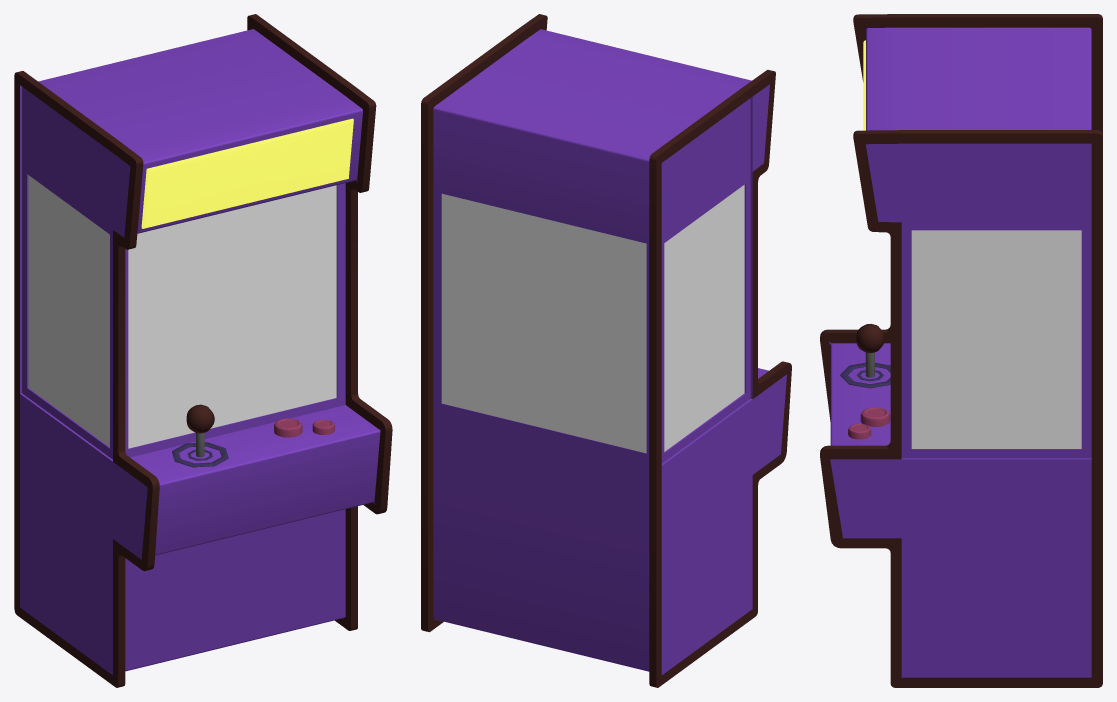
Rendered from gacha_machine.glb.
3 views of the same model, side by side, from view 1: azimuth 30°, elevation 25°; view 2: azimuth 150°, elevation 25°; view 3: azimuth 270°, elevation 25° (orthographic). The views are drawn at different scales.
Visible parts, largest first — view 1: Machine, Glass, Stick, Buttons; view 2: Machine, Glass; view 3: Machine, Glass, Stick, Buttons.
Part boxes in pixels (x1,y1,x2,y2): Machine: (14,14,392,687); Glass: (28,175,336,448); Stick: (172,404,228,467); Buttons: (274,418,334,437); Machine: (421,14,791,687); Glass: (441,184,744,453); Machine: (820,14,1102,687); Glass: (911,230,1081,448); Stick: (840,324,890,388); Buttons: (848,407,890,439).
Size of the model in its own units: 3.41 by 7.37 by 3.41.
